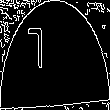L_S: (47, 29, 63, 81)
